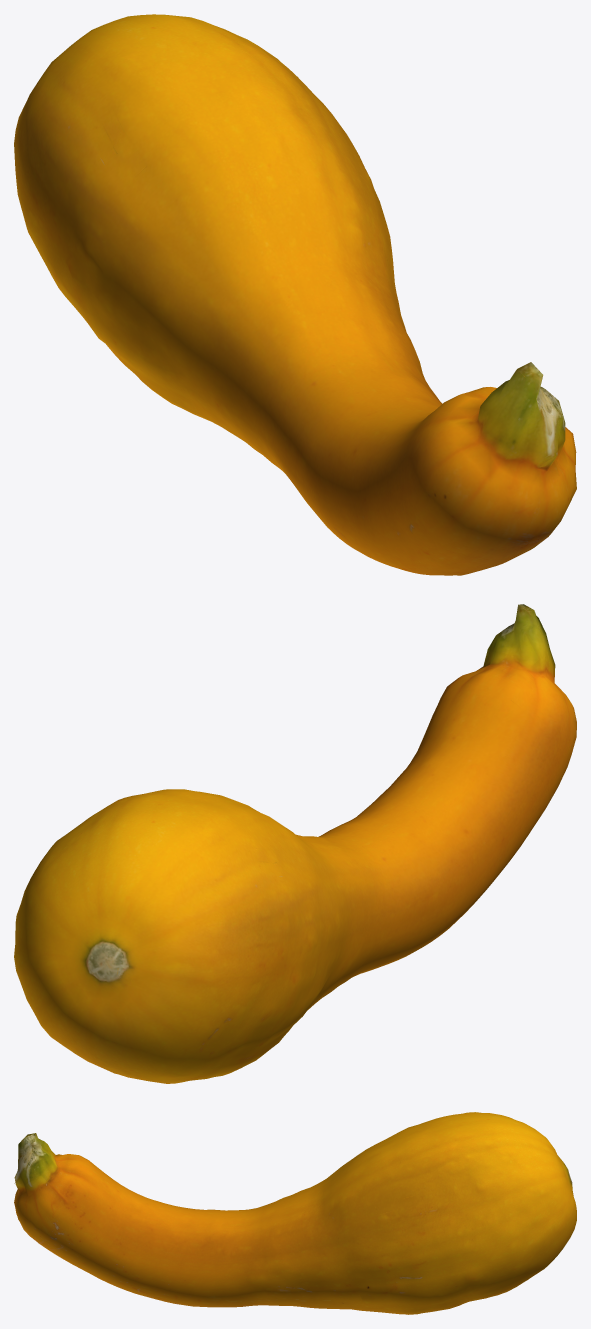
The model's file is yellow_zucchini.glb.
3 views of the same model, one above another, from view 1: azimuth 30°, elevation 25°; view 2: azimuth 150°, elevation 25°; view 3: azimuth 270°, elevation 25° (orthographic). The views are drawn at different scales.
Parts seen in each view (by area): view 1: Object_2; view 2: Object_2; view 3: Object_2.
Boxes of the visible parts, left/top/right/bottom form: Object_2: left=14, top=14, right=576, bottom=575; Object_2: left=14, top=604, right=576, bottom=1083; Object_2: left=14, top=1112, right=576, bottom=1314.
Bounding box in the file's own units: 1.37 × 1.56 × 4.23.
1 material, 1 textured.
